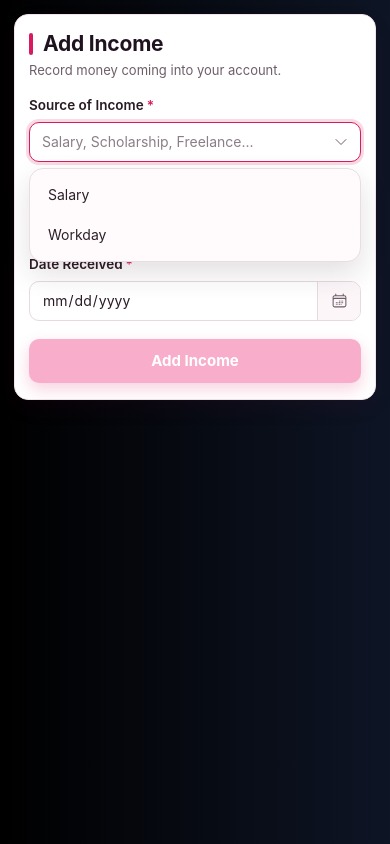
AddIncome -- Source of Income suggestions are the user's saved sources only › fills the field from a clicked suggestion and closes the menu
Click the option "Workday": (77, 234) [48,226,106,243]
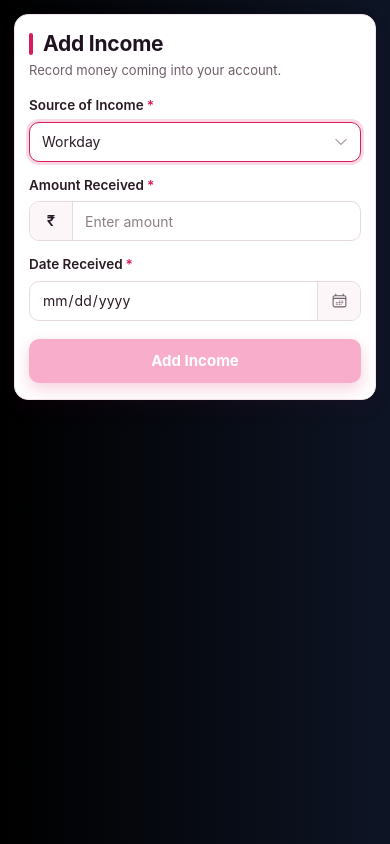
expect the dropdown labelled "Source of Income*" holds "Workday": met, box [29,122,361,162]
expect the list is gone: met
